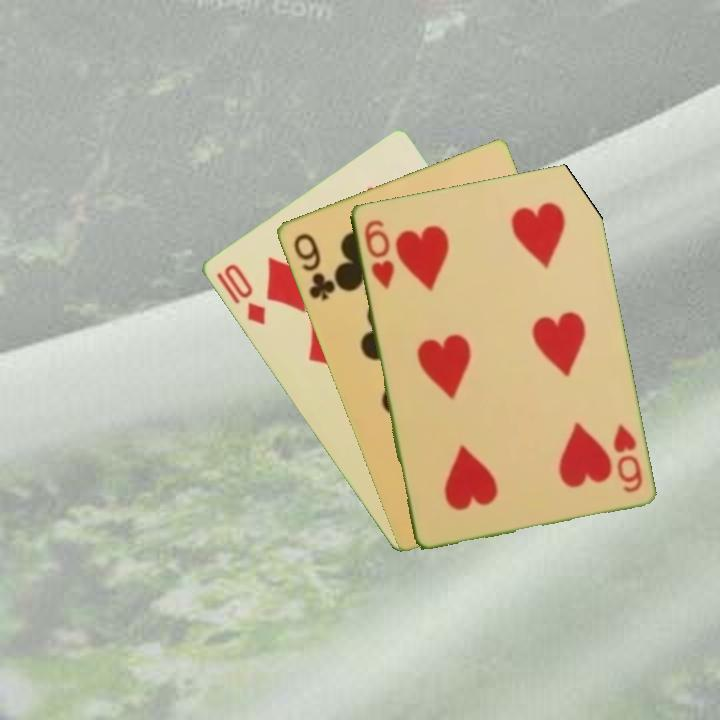10d: (220, 260, 268, 328)
6h: (360, 216, 397, 292), (609, 420, 645, 495)
9c: (289, 229, 338, 304)
